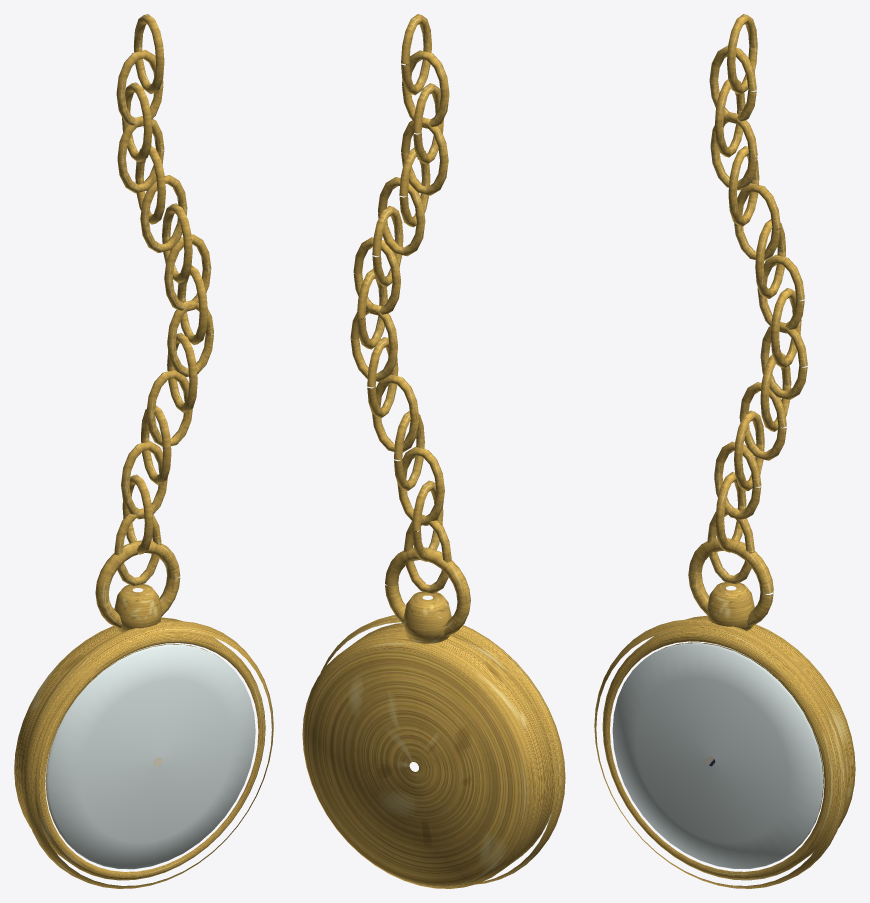
File: prop_watch.glb
3 views of the same model, side by side, from view 1: azimuth 30°, elevation 25°; view 2: azimuth 150°, elevation 25°; view 3: azimuth 330°, elevation 25° (orthographic).
Visible parts, largest first — view 1: prop_watch; view 2: prop_watch; view 3: prop_watch.
Boxes of the visible parts, x1,y1,x2,y2 form: prop_watch: (14, 14, 273, 888); prop_watch: (302, 14, 565, 888); prop_watch: (594, 14, 855, 888).
Bounding box in the file's own units: 0.054 × 0.1783 × 0.0126.
3 materials, 2 textured.
